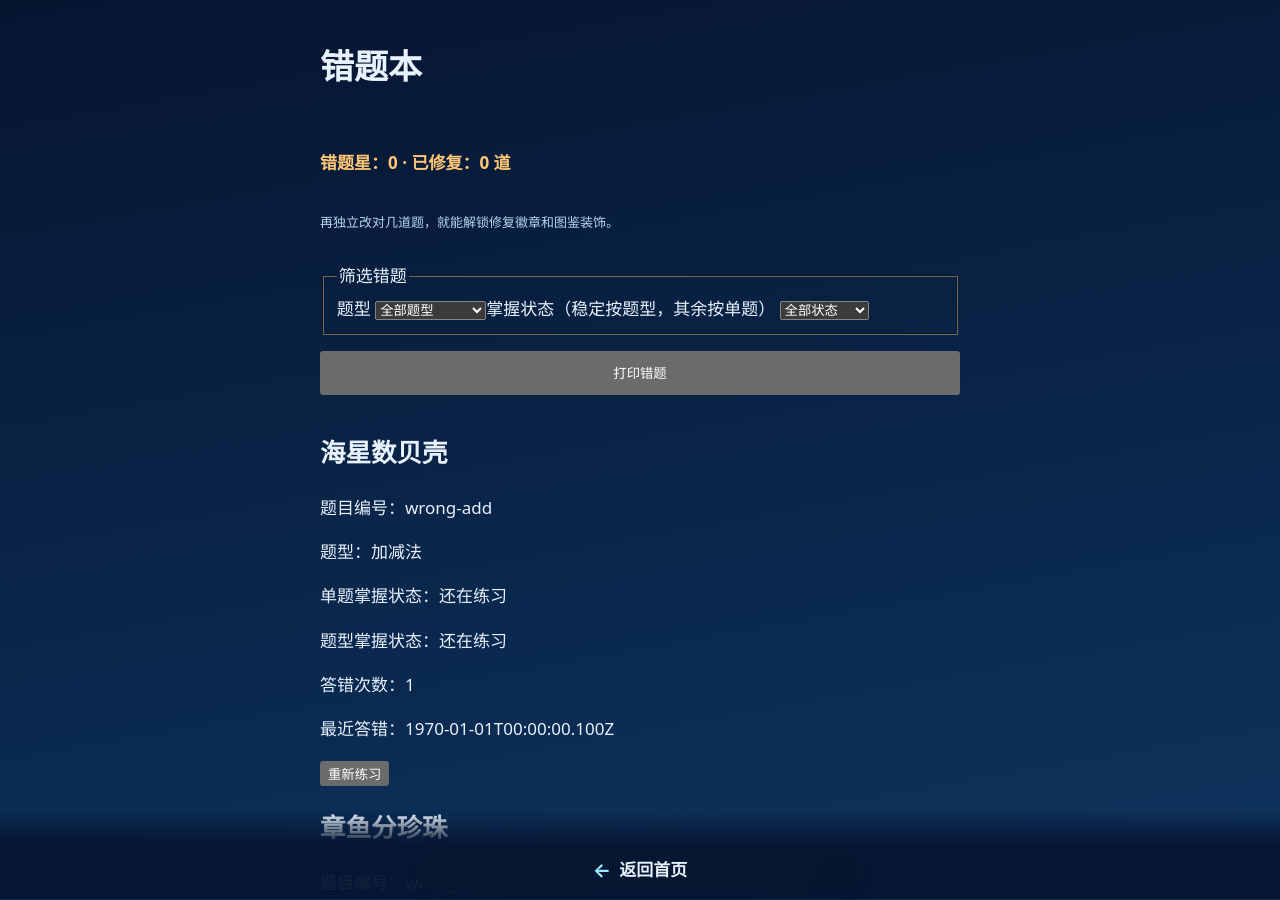
Test: MistakeBookView › 筛选无匹配项时保留错题本并提示可调整条件
The width and height of the screenshot is (1280, 900).
Select "规律与排序" in the dropdown with test id "filter-type" at (431, 310), box [375,301,486,320]
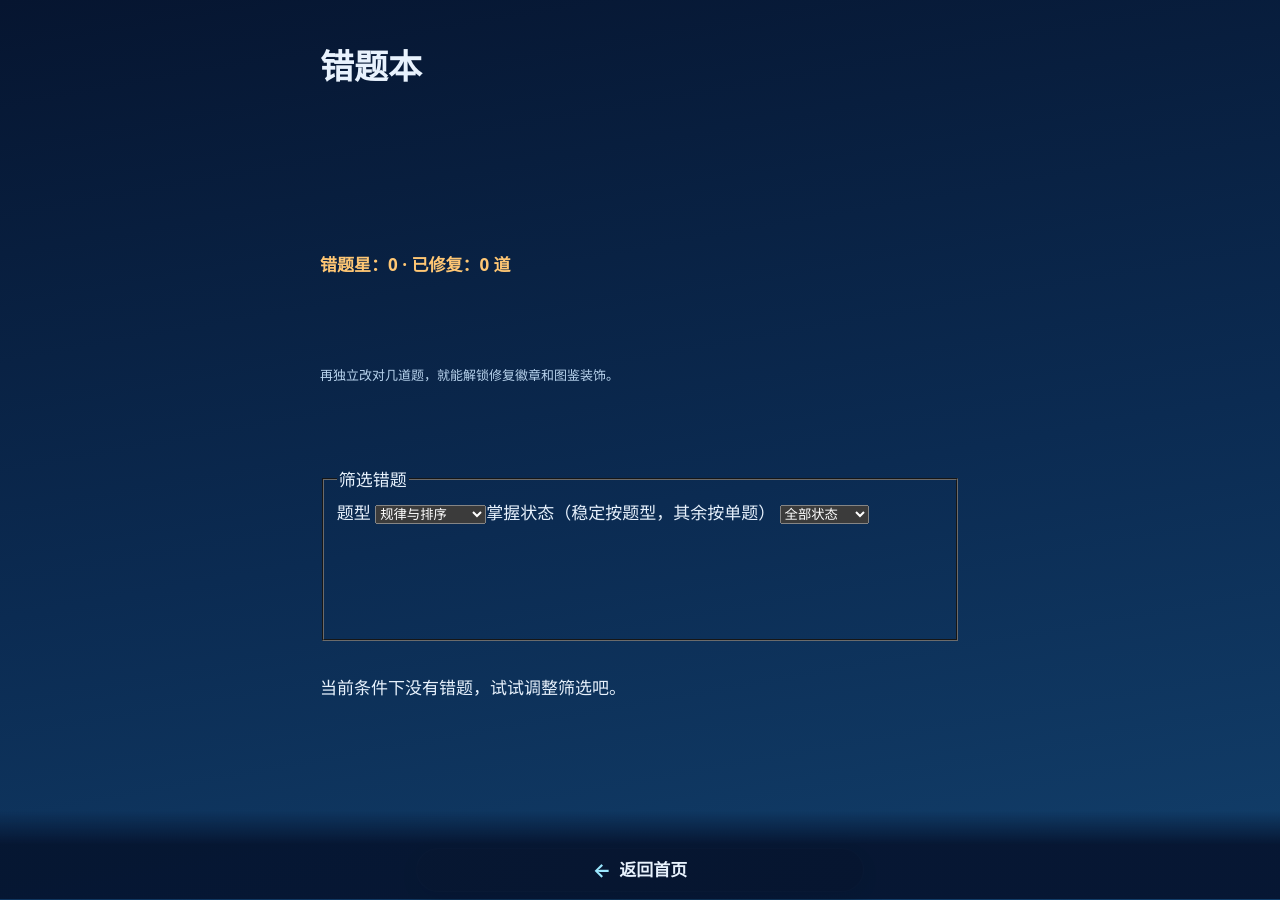
Result: the text with test id "mistake-filter-empty" shows "调整筛选" at [320,676,626,699]
